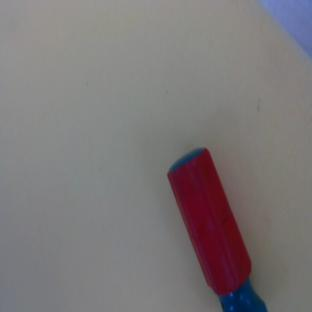part_2_good: (161, 145, 270, 312)
